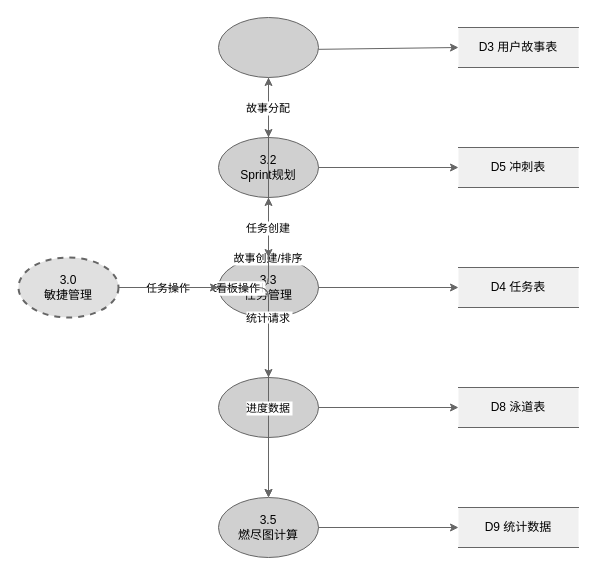
Some shapes in this 596 by 575 pixel diagram are drawn without their labels. The shapes that lost their labels are listed below. From the top down, each one's centre as x and y in pixels, then its label:
At (268,47): "3.1 Backlog管理".
At (268,407): "3.4 Kanban管理".
